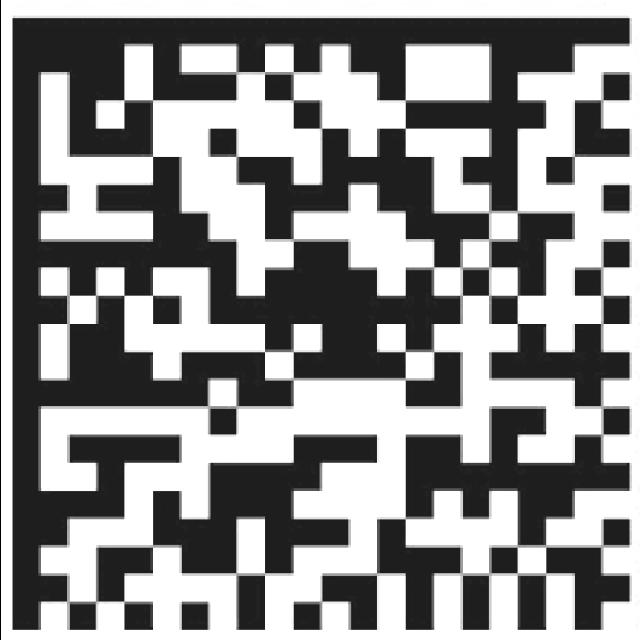DataMatrix: (3, 8, 634, 634)
